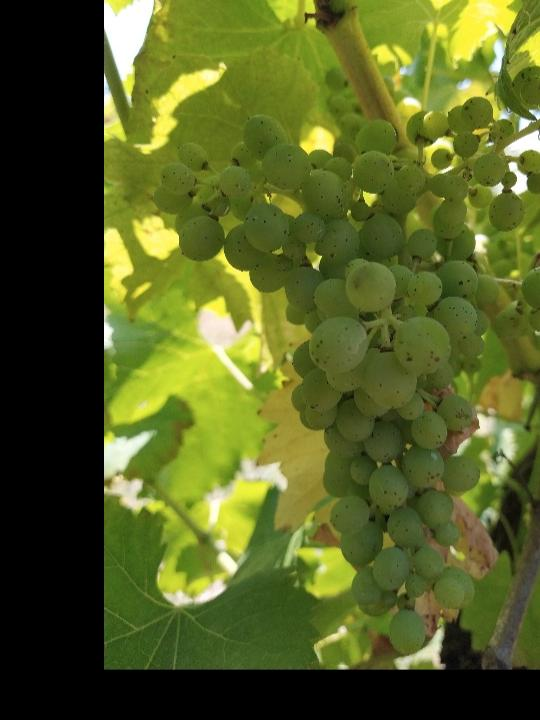grape: (156, 66, 540, 659)
